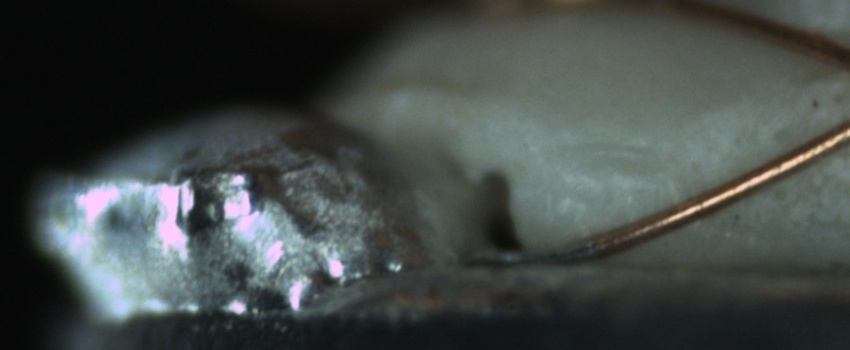DL: (547, 124, 673, 187)
TS: (457, 237, 599, 268)
